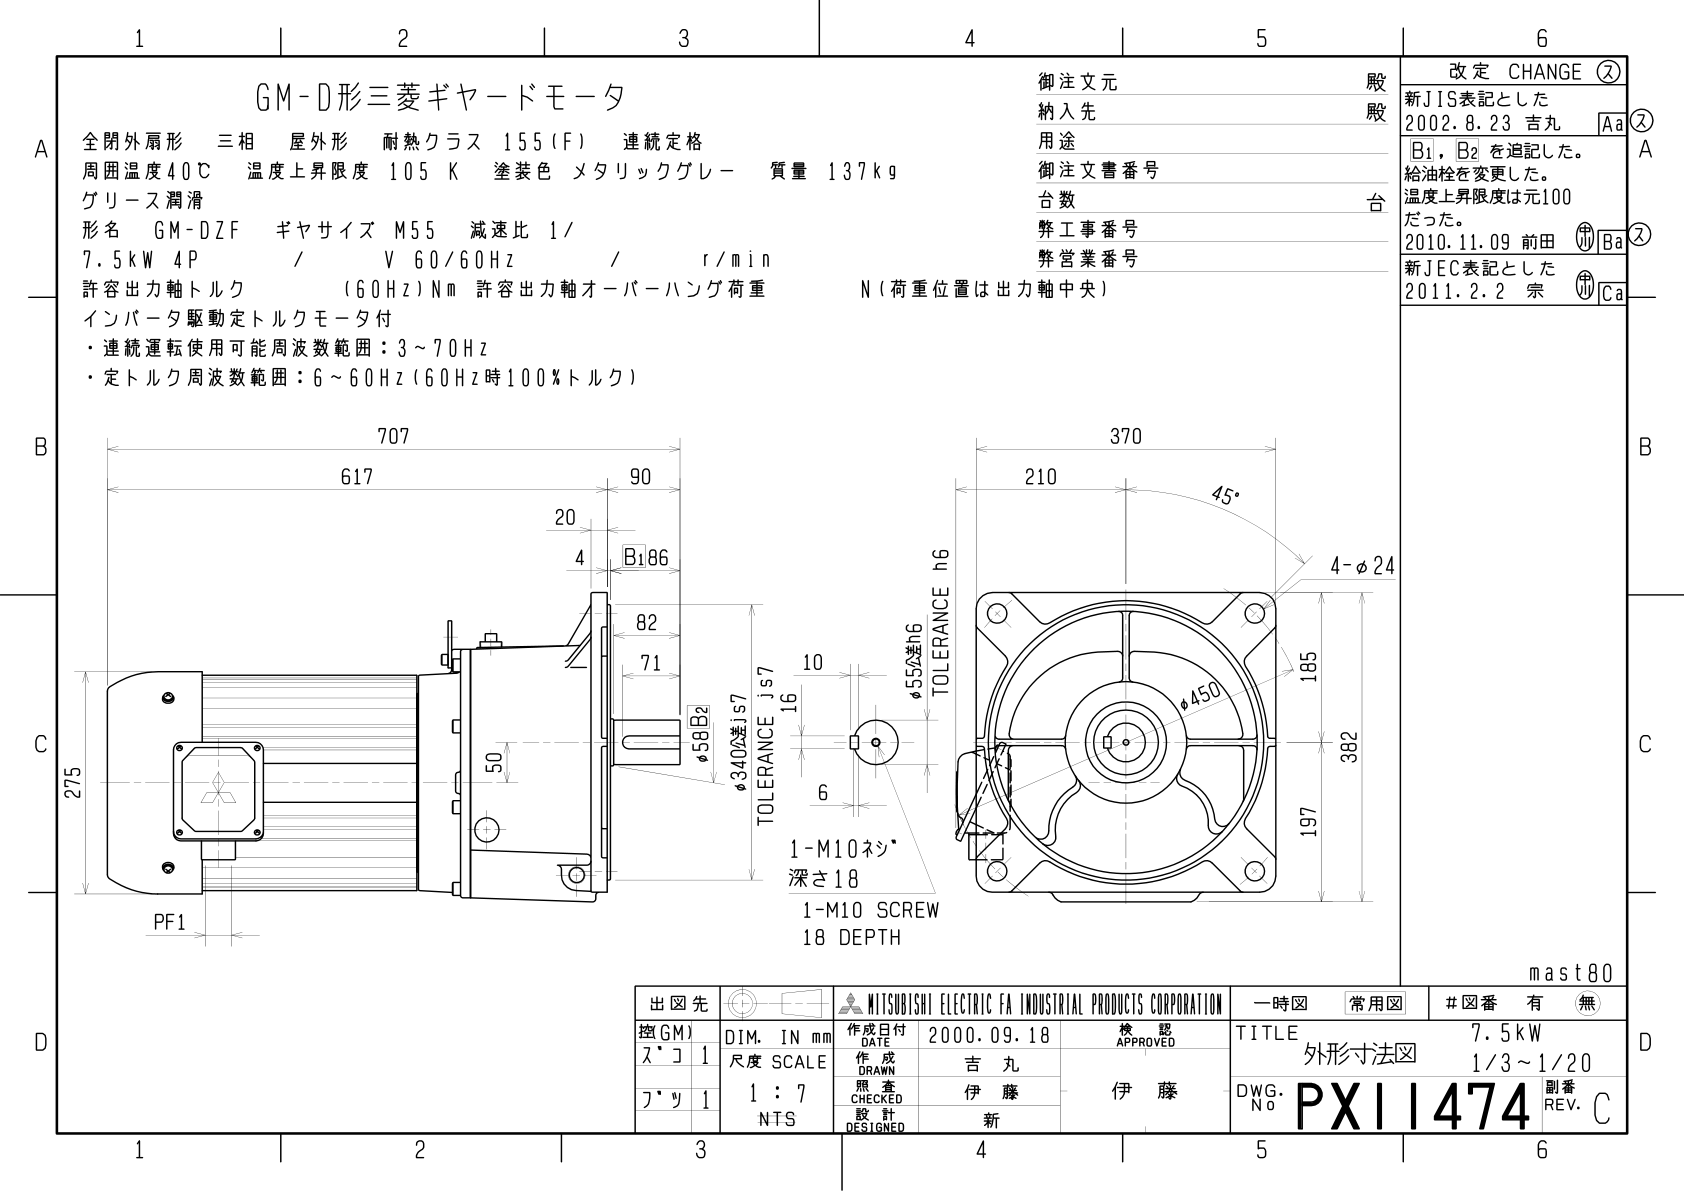GM_D_インバータ屋外_三相_フランジ: (1, 1, 1674, 1183)
